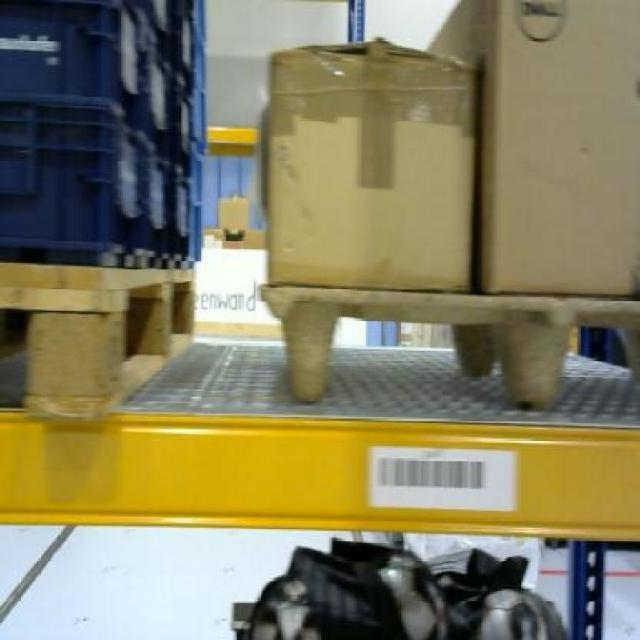box: (258, 36, 478, 290), (482, 1, 640, 298), (214, 192, 249, 232)
